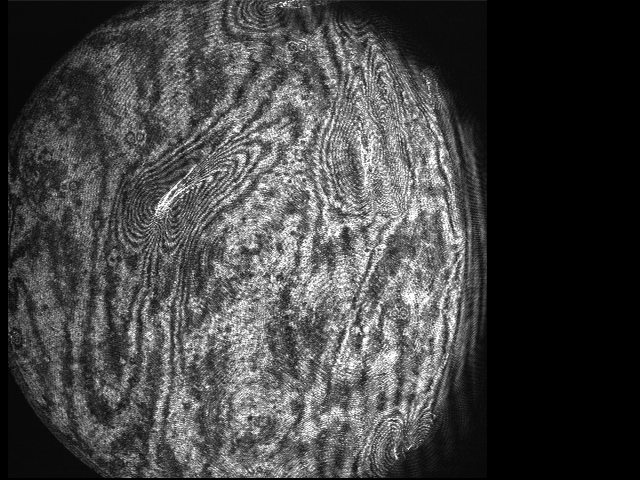plume: (118, 141, 261, 249)
